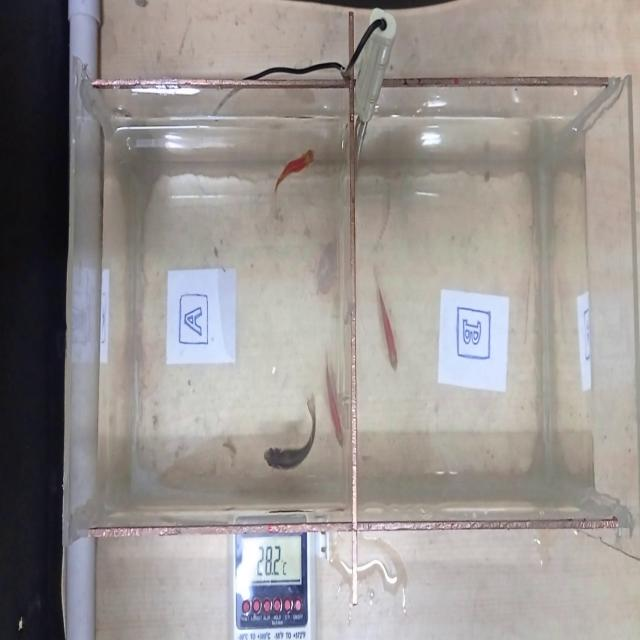Fish A1: (256, 394, 318, 483)
Fish A2: (272, 140, 324, 207)
Fish A3: (323, 348, 351, 466)
Fish B: (367, 261, 413, 396)
